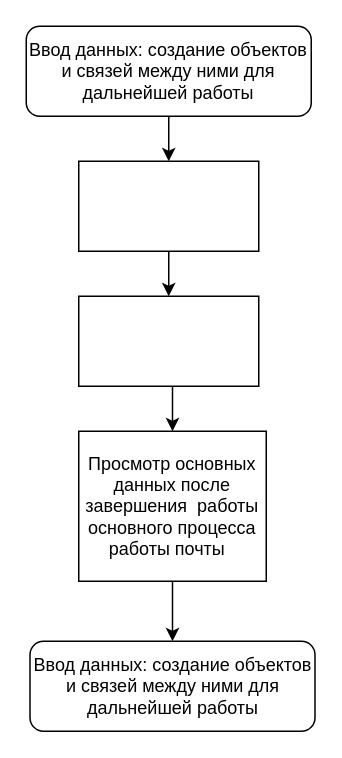
The diagram is 342 pixels wide and 758 high, and some of its shapes have lost their labels. The box of each missing label's shape, as (x1, y1, x2, y2) in pixels:
Запуск основного процесса: (77, 295, 259, 386)
Просмотр основных данных до запуска основного процесса работы почты: (77, 160, 259, 251)
